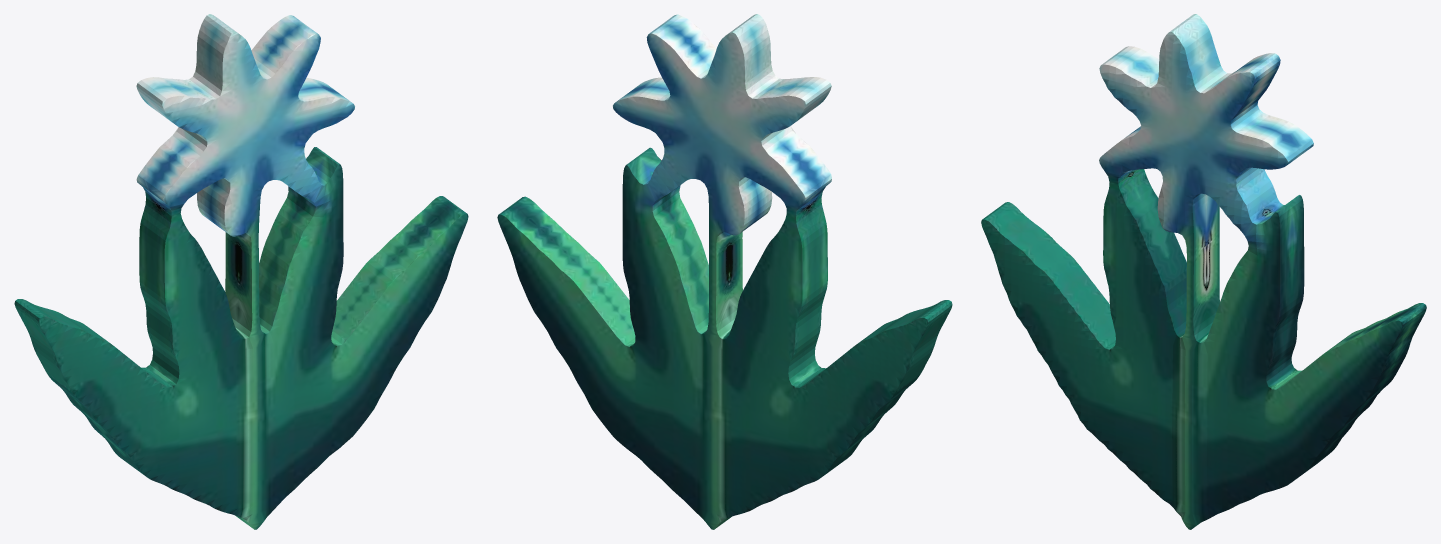
File: rare_plant.glb
The picture shows the model from 3 angles, left to right: view 1: azimuth 30°, elevation 25°; view 2: azimuth 150°, elevation 25°; view 3: azimuth 330°, elevation 25°; orthographic projection. The views are drawn at different scales.
Visible parts, largest first — view 1: geometry_0; view 2: geometry_0; view 3: geometry_0.
Boxes of the visible parts, box(x1,y1,x2,y2) form: geometry_0: box(14, 14, 468, 529); geometry_0: box(497, 14, 952, 529); geometry_0: box(981, 14, 1426, 529).
Size of the model in its own units: 2.25 by 2.5 by 0.261.
Materials: 1 (1 with a texture image).
